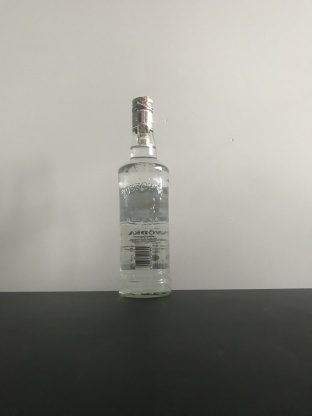nakretka: (129, 93, 155, 133)
